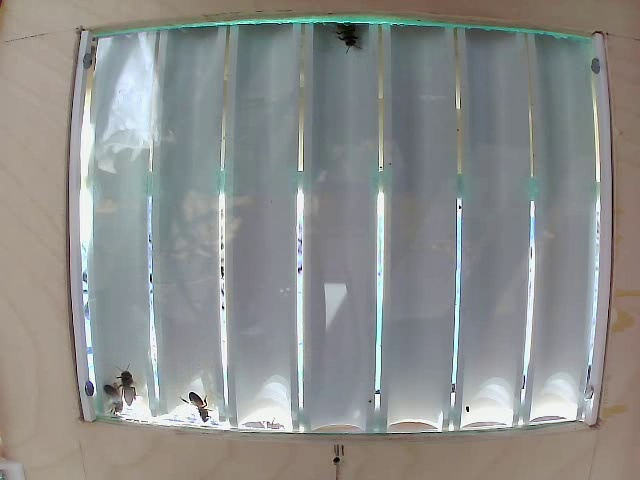bee: (322, 12, 379, 61), (175, 380, 217, 426), (105, 367, 140, 409)
